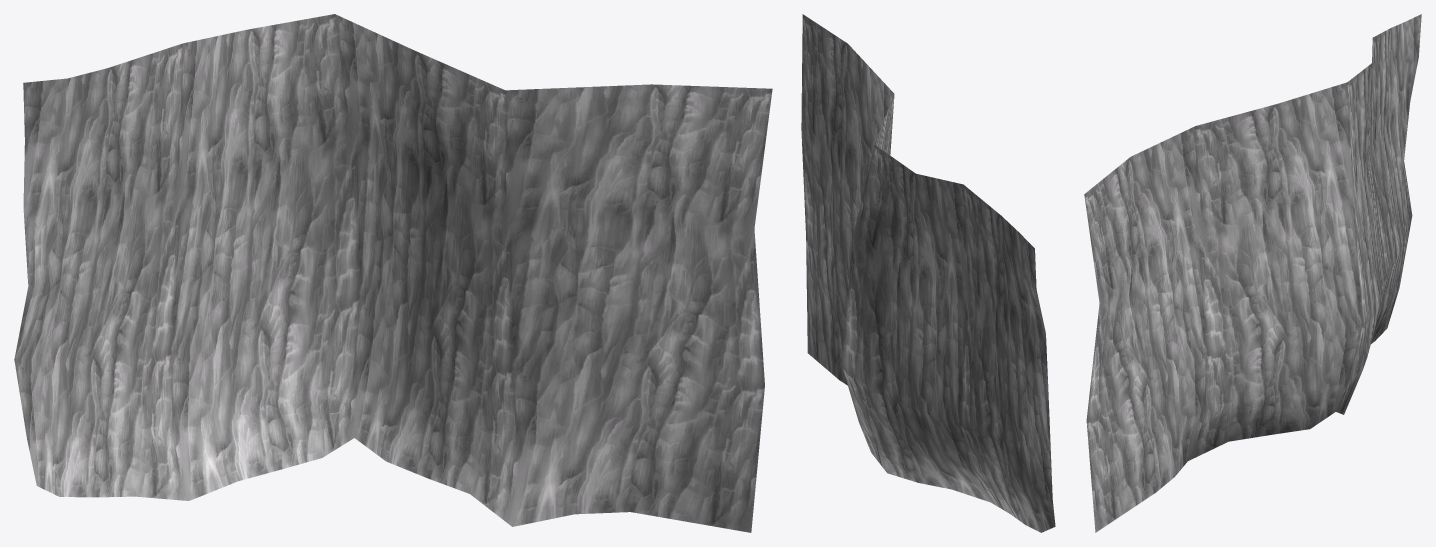
Rendered from SWORDLIGHT20_PS-AREA03_194.fbx.
The picture shows the model from 3 angles, left to right: view 1: azimuth 30°, elevation 25°; view 2: azimuth 150°, elevation 25°; view 3: azimuth 270°, elevation 25°; orthographic projection. The views are drawn at different scales.
Parts seen in each view (by area): view 1: SWORDLIGHT20_PS-AREA03_194; view 2: SWORDLIGHT20_PS-AREA03_194; view 3: SWORDLIGHT20_PS-AREA03_194.
Part boxes in pixels (bbox=[...]): SWORDLIGHT20_PS-AREA03_194: bbox=[14, 14, 772, 532]; SWORDLIGHT20_PS-AREA03_194: bbox=[801, 14, 1055, 532]; SWORDLIGHT20_PS-AREA03_194: bbox=[1084, 14, 1421, 532].
Bounding box in the file's own units: 184563 × 149105 × 128297.
1 material, 1 textured.
